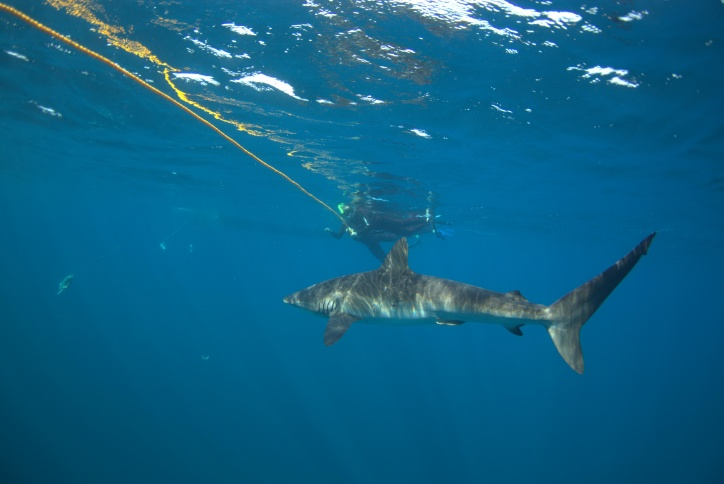Sedoso: (265, 227, 664, 375)
